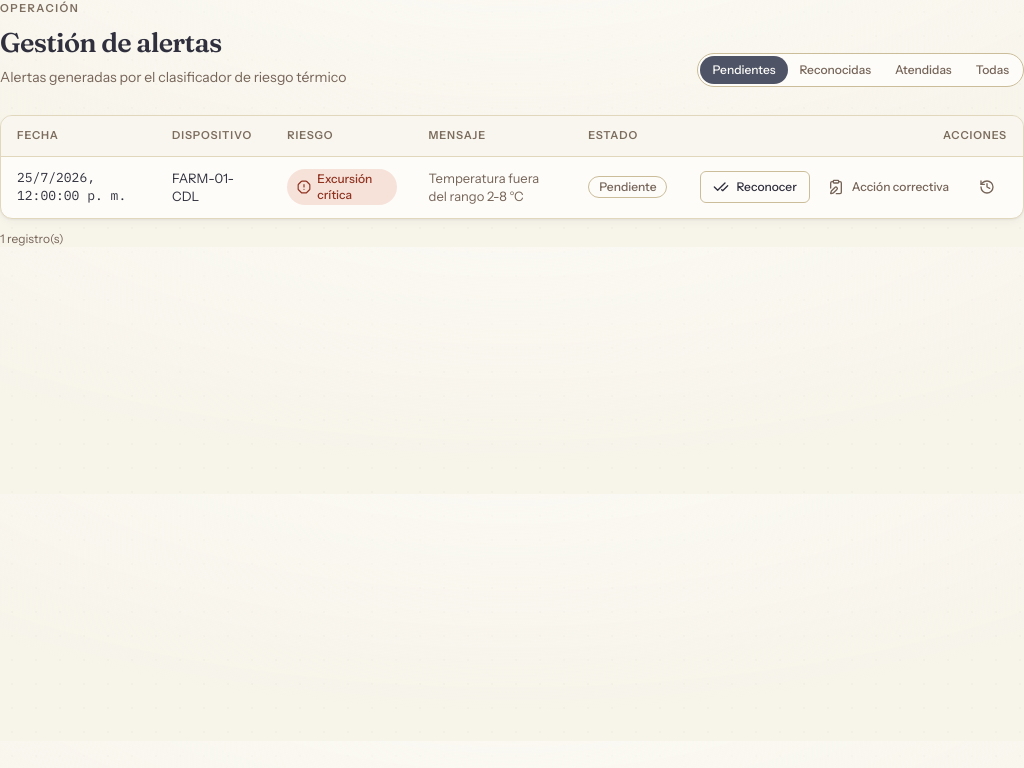
Alertas — ciclo completo de acción correctiva (RF-09, RF-10) › avisa cuando otro usuario ya atendió la alerta primero (HU-27 Escenario 2)
The image size is (1024, 768).
Click the button "Acción correctiva".
click(888, 187)  # box x1=816 y1=171 x2=961 y2=203
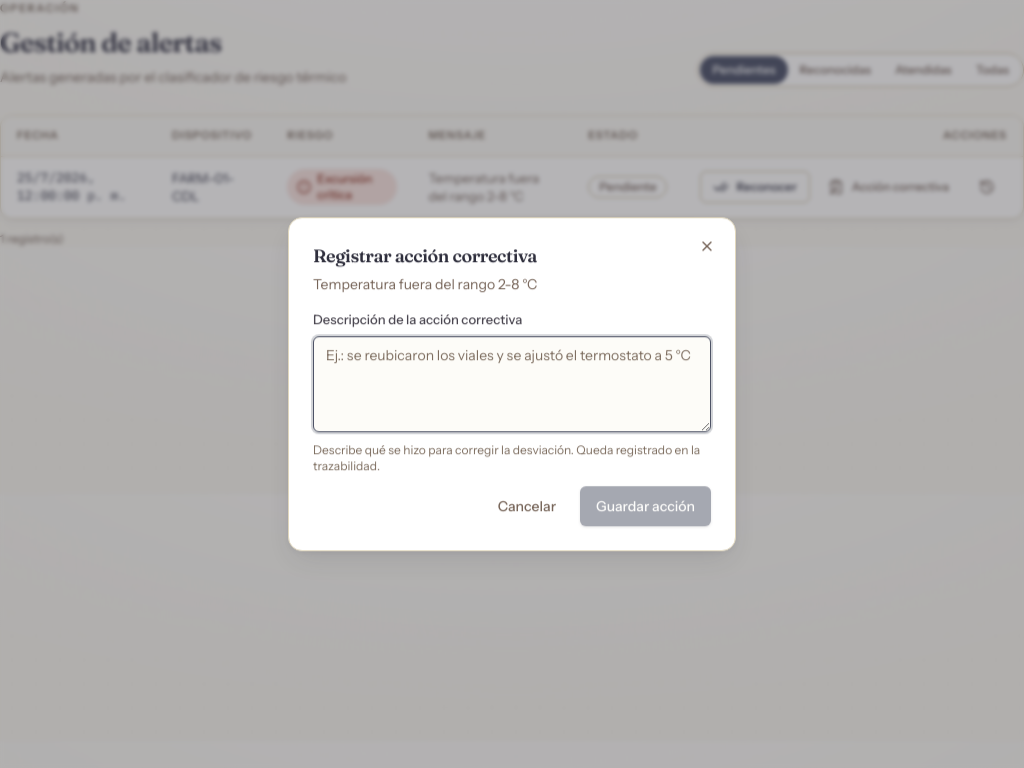
Type "Termostato ajustado" into the text box labelled "Descripción de la acción correctiva".
click(512, 384); type("Termostato ajustado")  # box x1=313 y1=336 x2=711 y2=432
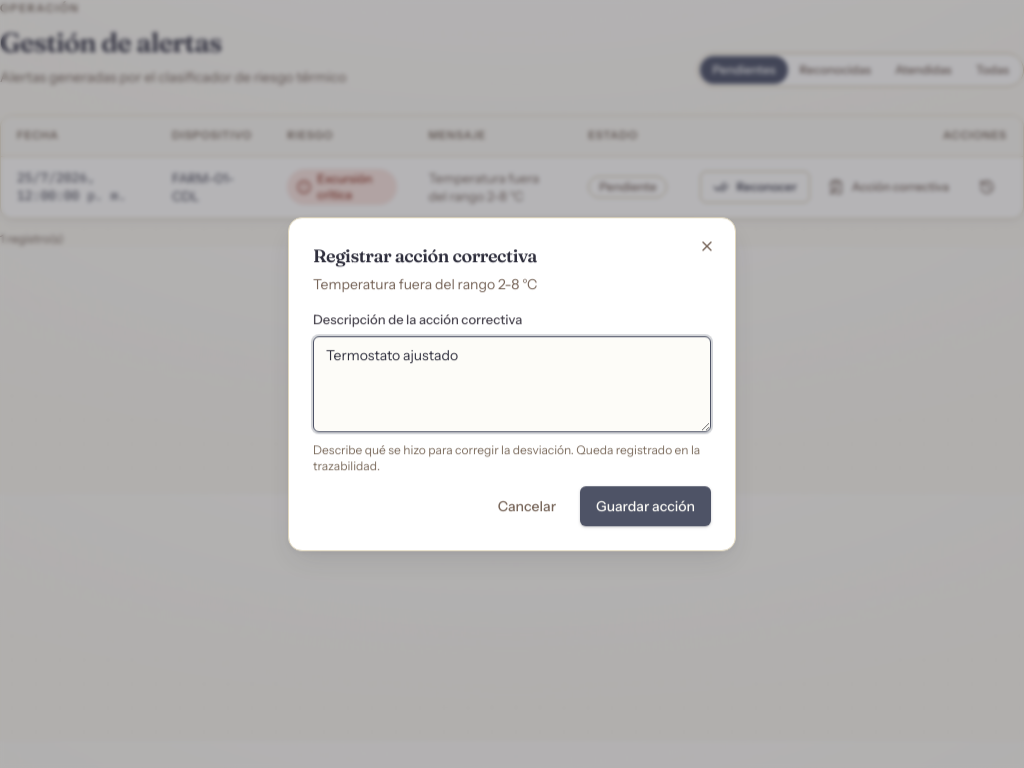
Click the button "Guardar acción".
click(646, 506)  # box x1=580 y1=486 x2=711 y2=526
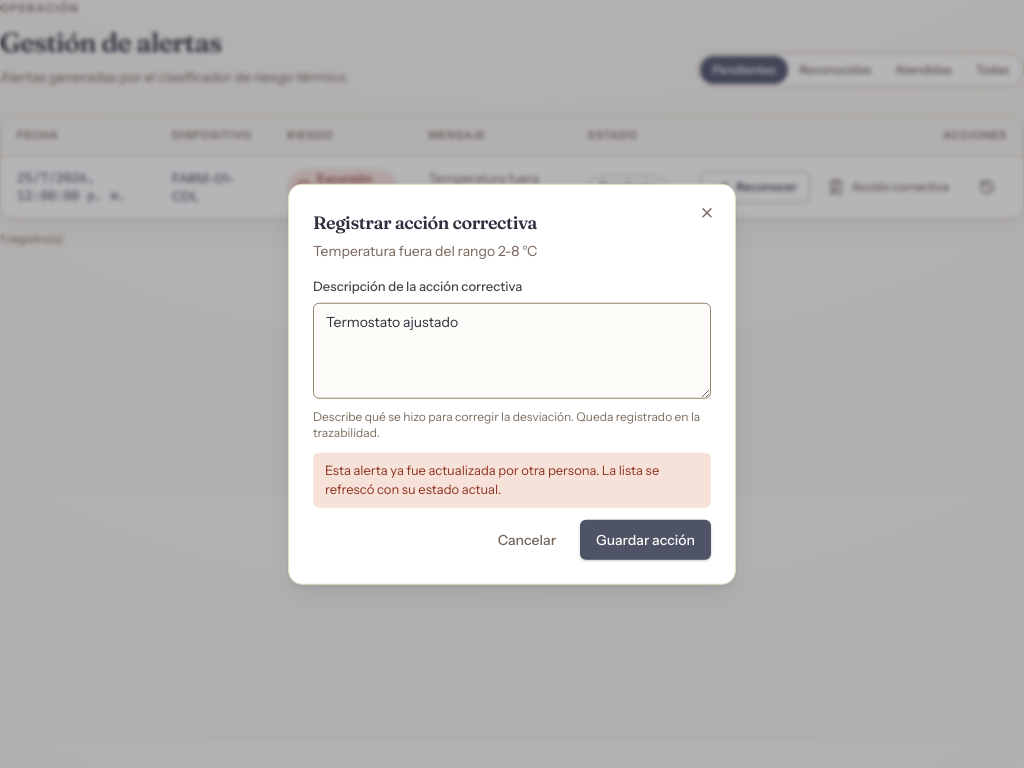
Check: the message shows "actualizada por otra persona", box x1=325 y1=461 x2=659 y2=497
